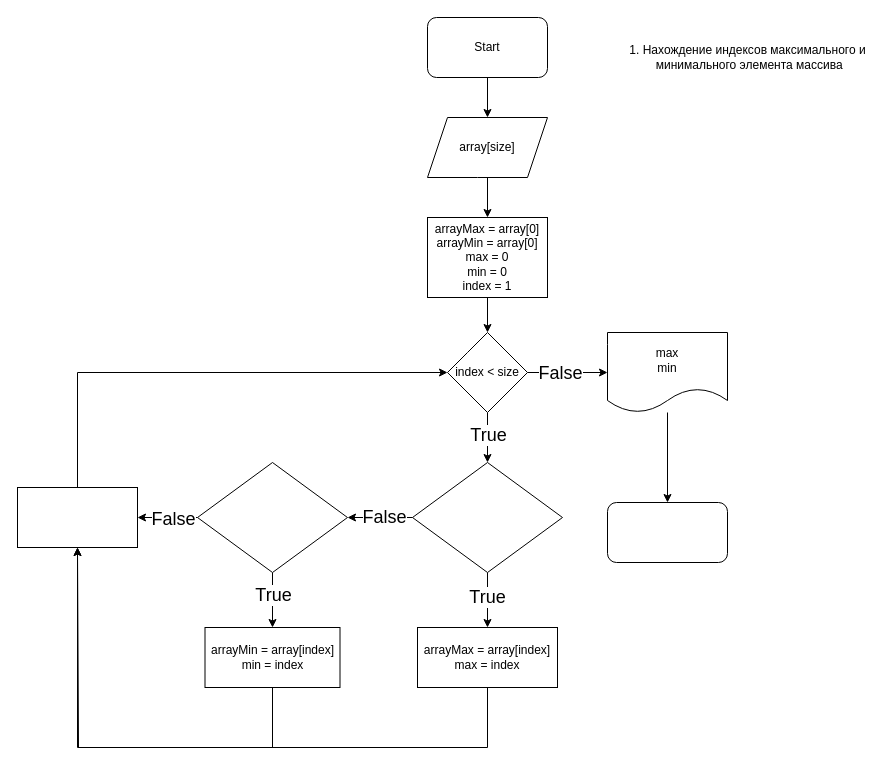
Some shapes in this 895 by 773 pixel diagram are drawn without their labels. The centre of each missing label's shape, as x and y in pixels:
arrayMax < array[index]: (x=487, y=517)
arrayMin > array[index]: (x=272, y=517)
Finish: (x=667, y=532)
index += 1: (x=77, y=517)
